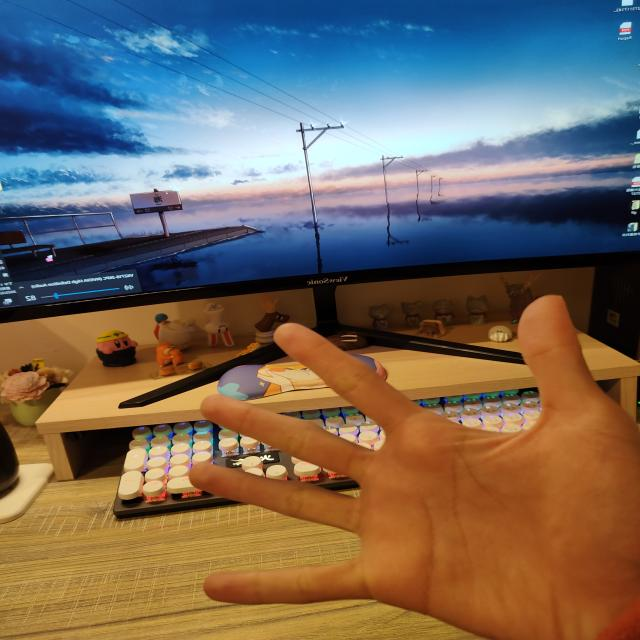no_glove: (168, 268, 638, 640)
